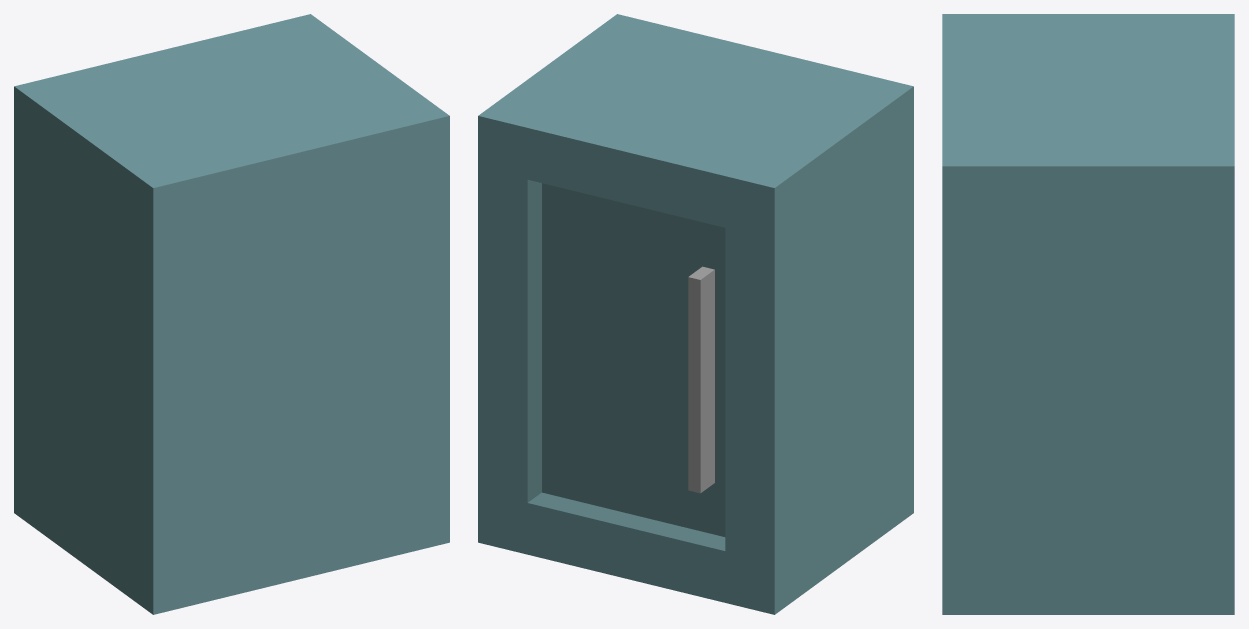
The model's file is cabinetbath.fbx.
3 views of the same model, side by side, from view 1: azimuth 30°, elevation 25°; view 2: azimuth 150°, elevation 25°; view 3: azimuth 270°, elevation 25° (orthographic). The views are drawn at different scales.
Visible parts, largest first — view 1: cube, cube_2, cube_3, cube_1; view 2: cube, cube_2, cube_1, cube_3, cube_4, cube_5; view 3: cube, cube_1, cube_3, cube_2.
Boxes of the visible parts, box(x1,y1,x2,y2) form: cube: box(28, 24, 449, 614); cube_2: box(14, 74, 77, 522); cube_3: box(64, 26, 275, 84); cube_1: box(261, 14, 324, 36); cube: box(492, 14, 913, 604); cube_2: box(725, 165, 788, 614); cube_1: box(478, 105, 541, 554); cube_3: box(527, 117, 738, 227); cube_4: box(527, 492, 725, 602); cube_5: box(688, 266, 714, 493); cube: box(942, 14, 1204, 614); cube_1: box(1204, 141, 1234, 614); cube_3: box(1204, 39, 1234, 140); cube_2: box(1204, 14, 1234, 39).
Size of the model in its own units: 30 by 41.25 by 24.38.
1 material, 1 textured.
